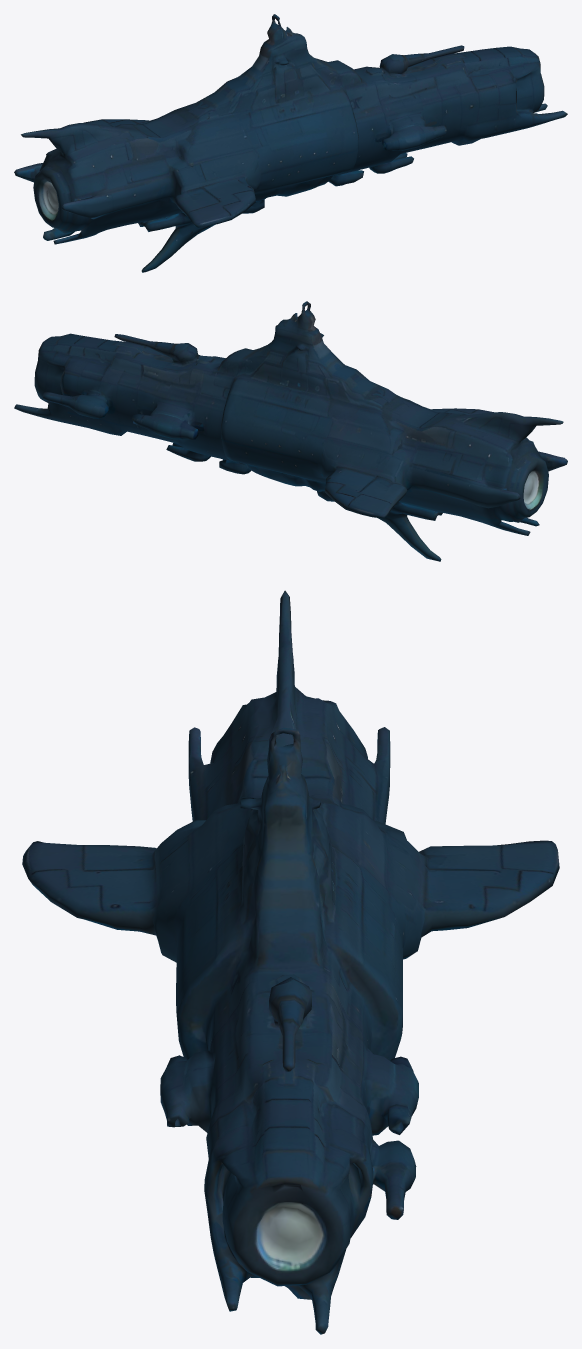
The model's file is tripo_convert_fea02c7f-3732-4a7a-aeeb-bc601cb3f766.obj.
3 renders of one model, top to bottom at view 1: azimuth 30°, elevation 25°; view 2: azimuth 150°, elevation 25°; view 3: azimuth 270°, elevation 25°, orthographic. The views are drawn at different scales.
Parts seen in each view (by area): view 1: tripo_node_fea02c7f-3732-4a7a-aeeb-bc601cb3f766; view 2: tripo_node_fea02c7f-3732-4a7a-aeeb-bc601cb3f766; view 3: tripo_node_fea02c7f-3732-4a7a-aeeb-bc601cb3f766.
Boxes of the visible parts, left/top/right/bottom form: tripo_node_fea02c7f-3732-4a7a-aeeb-bc601cb3f766: left=14, top=14, right=567, bottom=272; tripo_node_fea02c7f-3732-4a7a-aeeb-bc601cb3f766: left=14, top=301, right=567, bottom=561; tripo_node_fea02c7f-3732-4a7a-aeeb-bc601cb3f766: left=22, top=590, right=559, bottom=1334.
Size of the model in its own units: 0.9958 by 0.3992 by 0.4324.
1 material, 1 textured.
